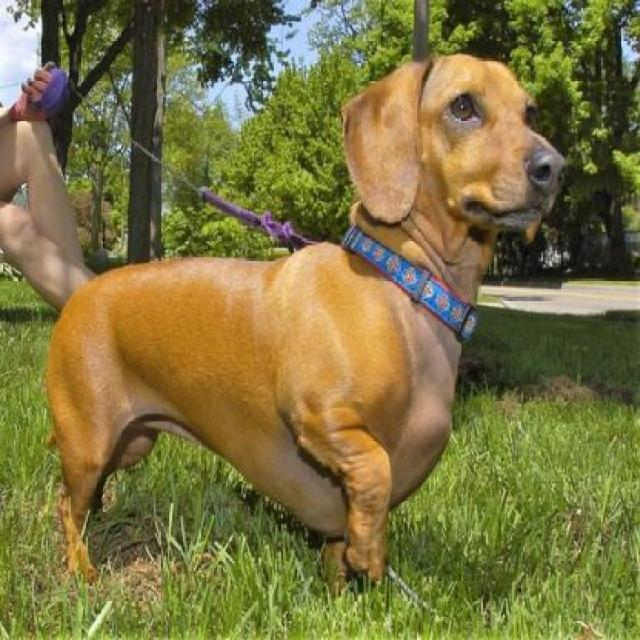Dog: (30, 47, 572, 598)
